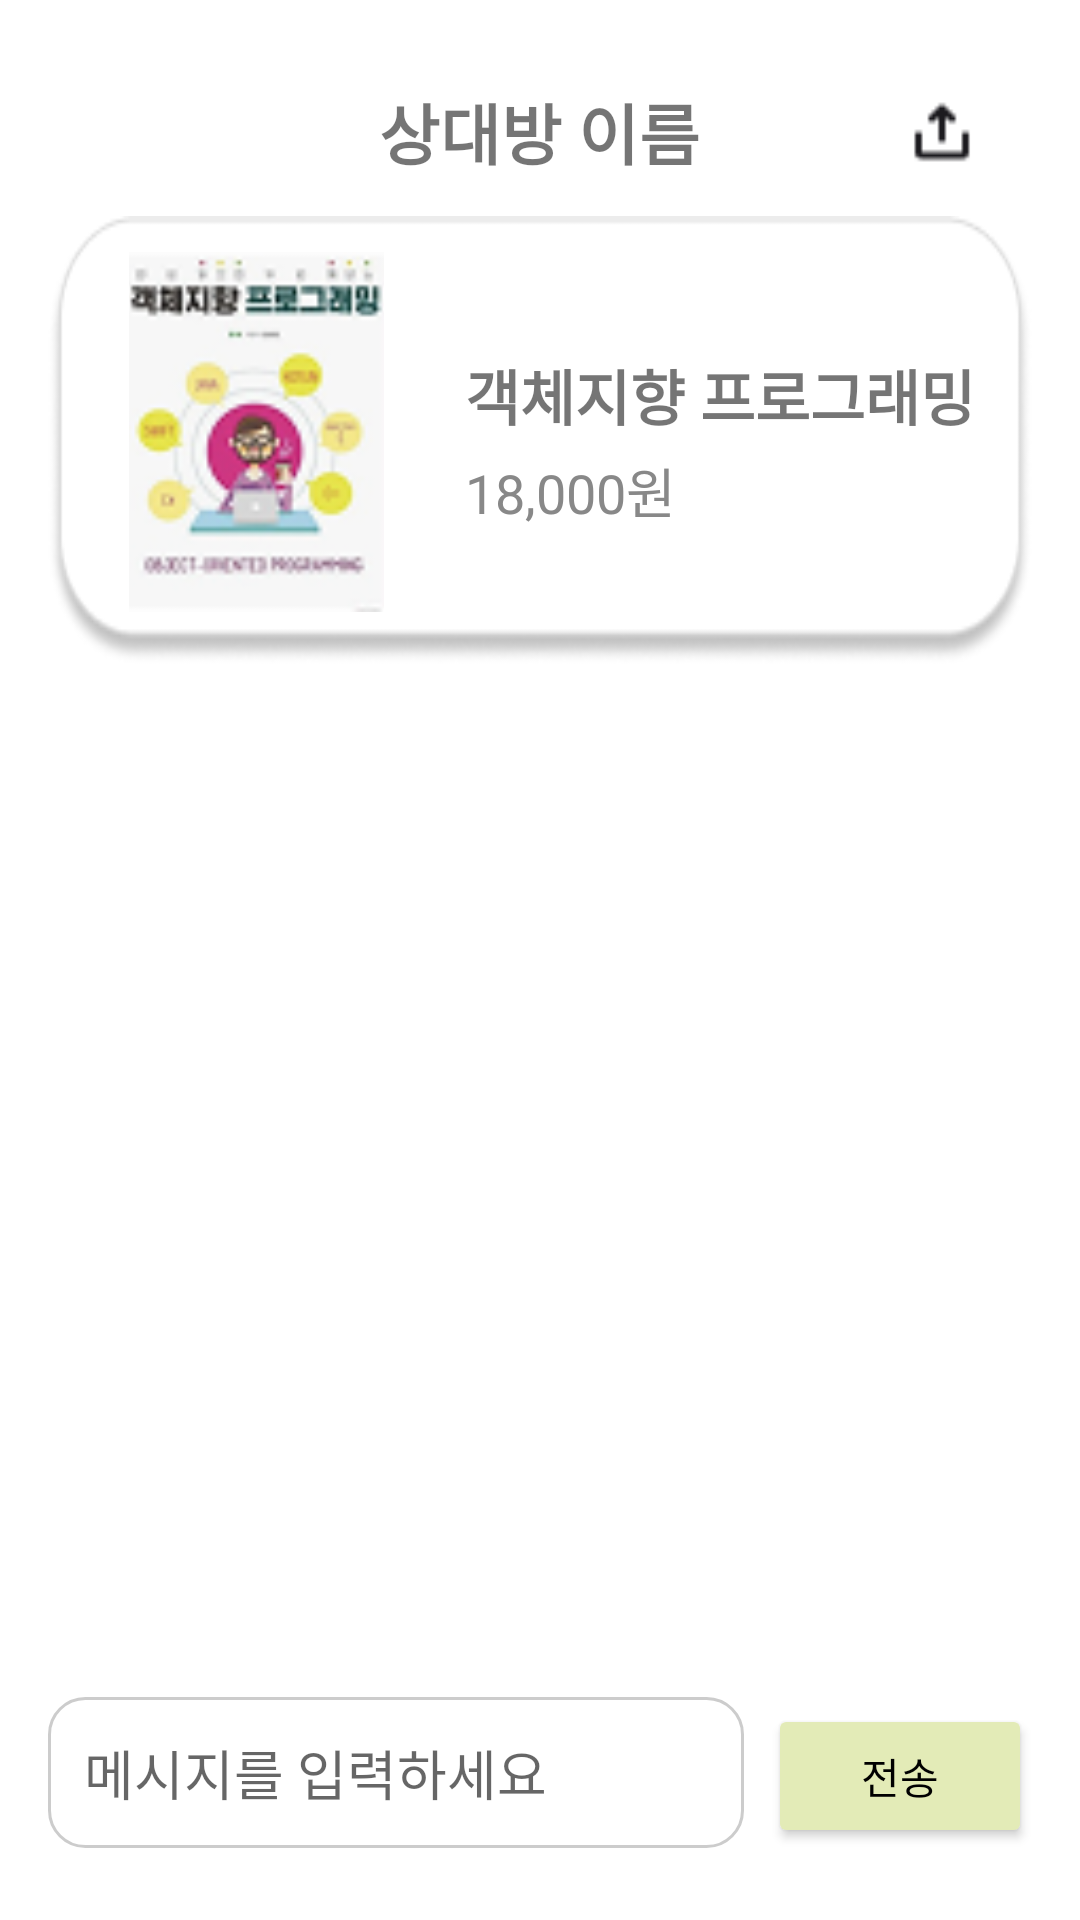

Icon click points for this 1080px×1920px phone screenshot, format [x,y]:
공유: [942,132]
